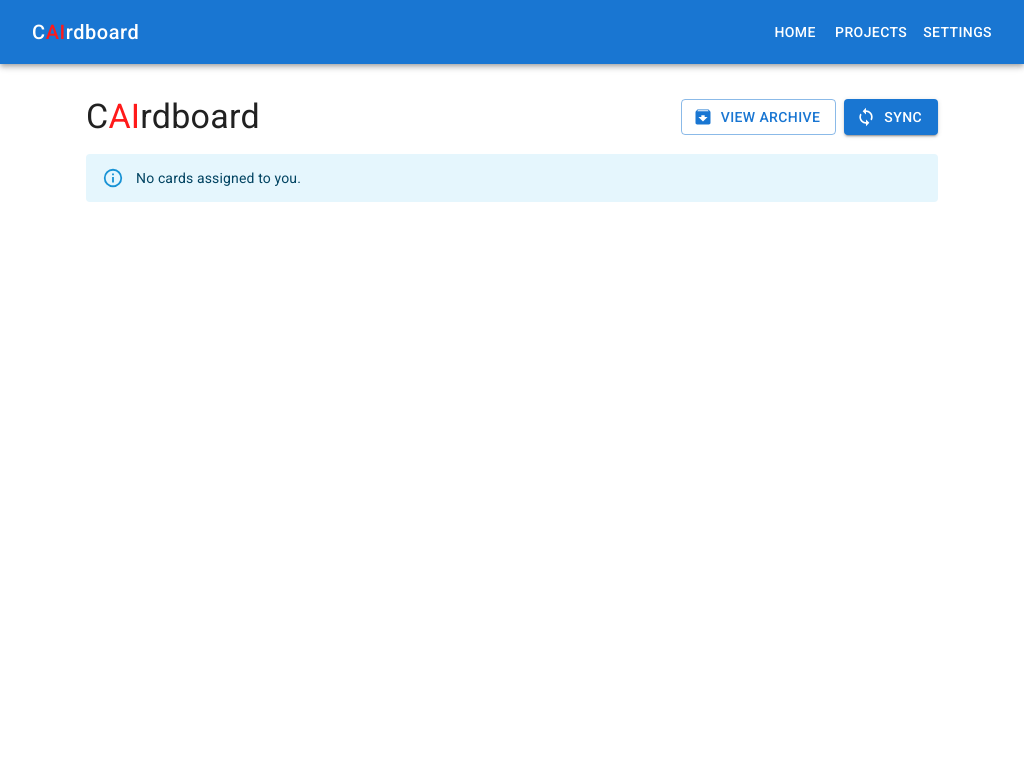
Scenario: clicking a nav link switches the page
Click the link "Settings". click: (958, 32)
box: top-left (923, 24), bottom-right (992, 40)
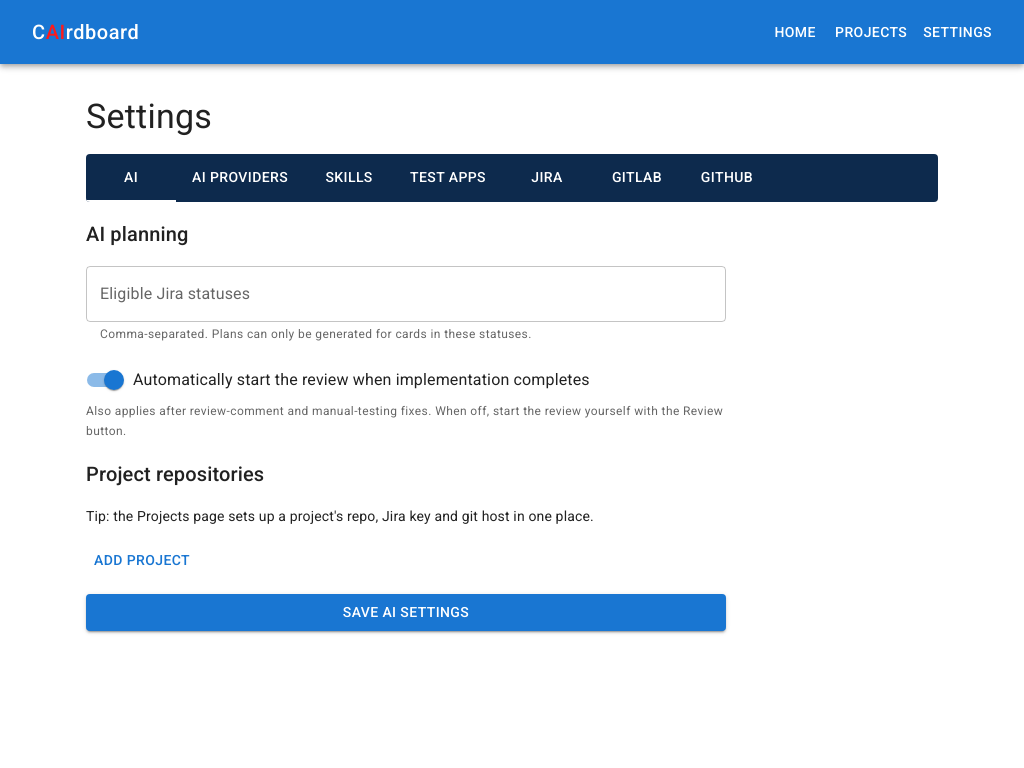
Expected: the heading "Settings" is shown, top-left (86, 96), bottom-right (212, 136)
